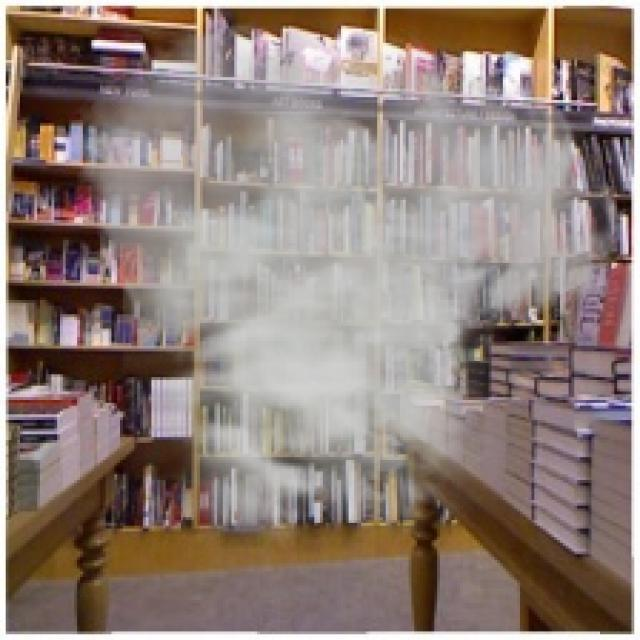Smoke: (69, 20, 620, 569)
